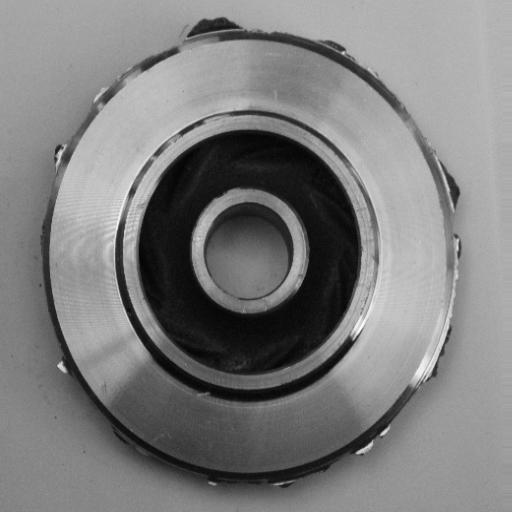casting_with_burr: (35, 13, 466, 495)
scratch: (350, 252, 394, 348)
